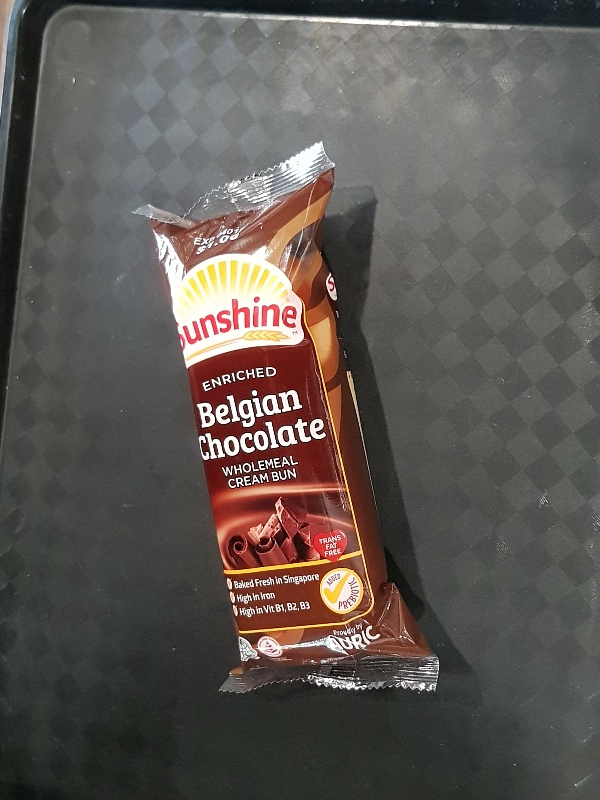Sunshine Belgium Chocolate Wholemeal Cream Bun: (130, 142, 440, 695)
